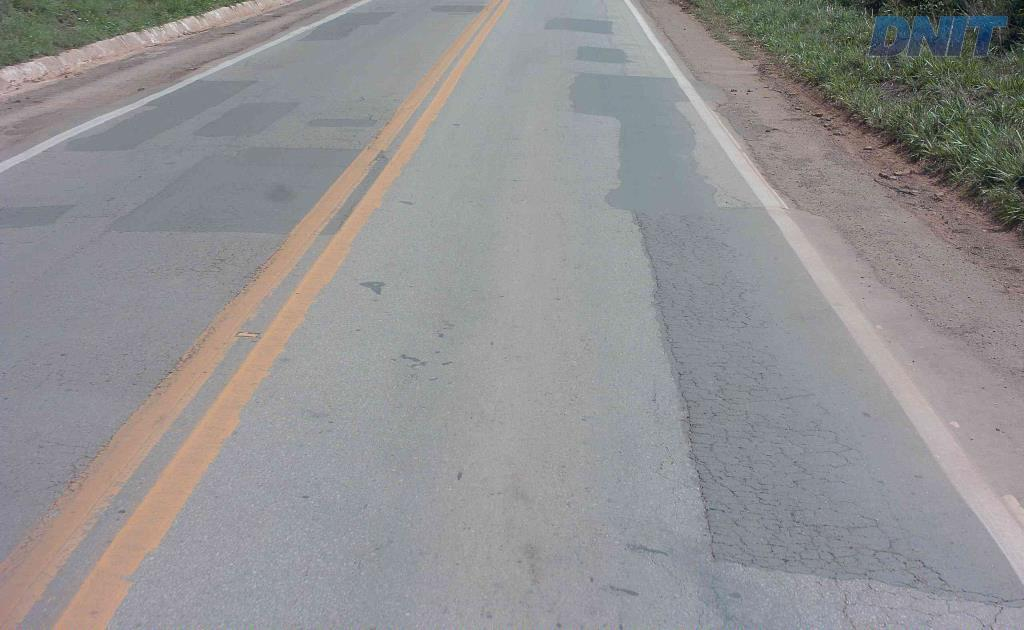crack: (651, 260, 875, 585), (700, 405, 759, 442)
